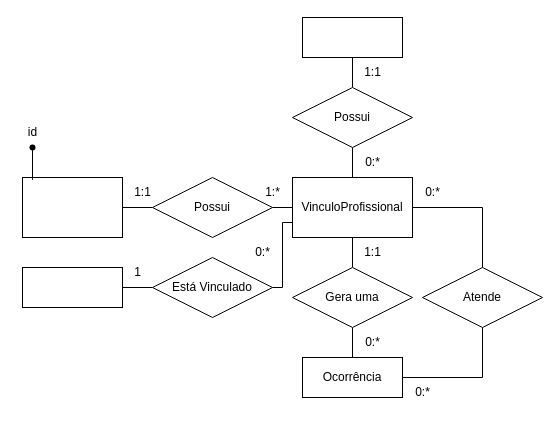
The diagram is 560 pixels wide and 425 high, and some of its shapes have lost their labels. The centre of each missing label's shape, as x and y in pixels:
"Instituição" goes at point 72,287.
"Profissão (CBO)" goes at point 352,37.
"Usuario" goes at point 72,207.
